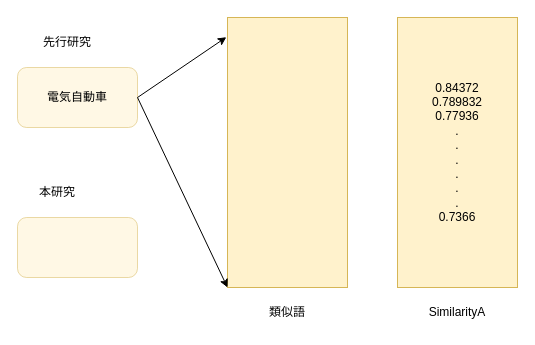
Image size: 535x345. Some labels were removed from this diagram. The box of each missing label's shape, as (x1, y1, x2, y2) in pixels:
ハイブリッドカー エコカー ハイブリッド車 . . . . . . ハイブリッド自動車: (226, 16, 348, 288)
電気自動車+電池: (16, 216, 138, 278)
